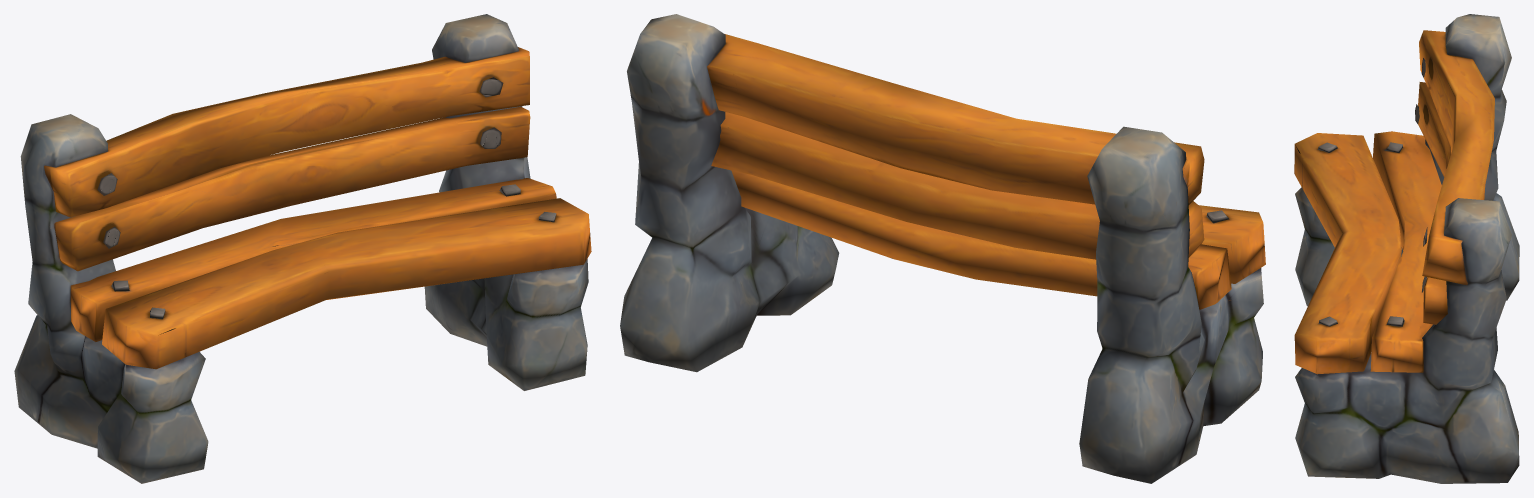
File: Banco.fbx
3 renders of one model, left to right at view 1: azimuth 30°, elevation 25°; view 2: azimuth 150°, elevation 25°; view 3: azimuth 270°, elevation 25°, orthographic. The views are drawn at different scales.
Visible parts, largest first — view 1: geometry_0; view 2: geometry_0; view 3: geometry_0.
Part boxes in pixels (bbox=[...]): geometry_0: bbox=[14, 14, 591, 483]; geometry_0: bbox=[620, 14, 1265, 483]; geometry_0: bbox=[1294, 14, 1519, 483].
Bounding box in the file's own units: 176 × 100 × 77.29.
Materials: 1 (1 with a texture image).
